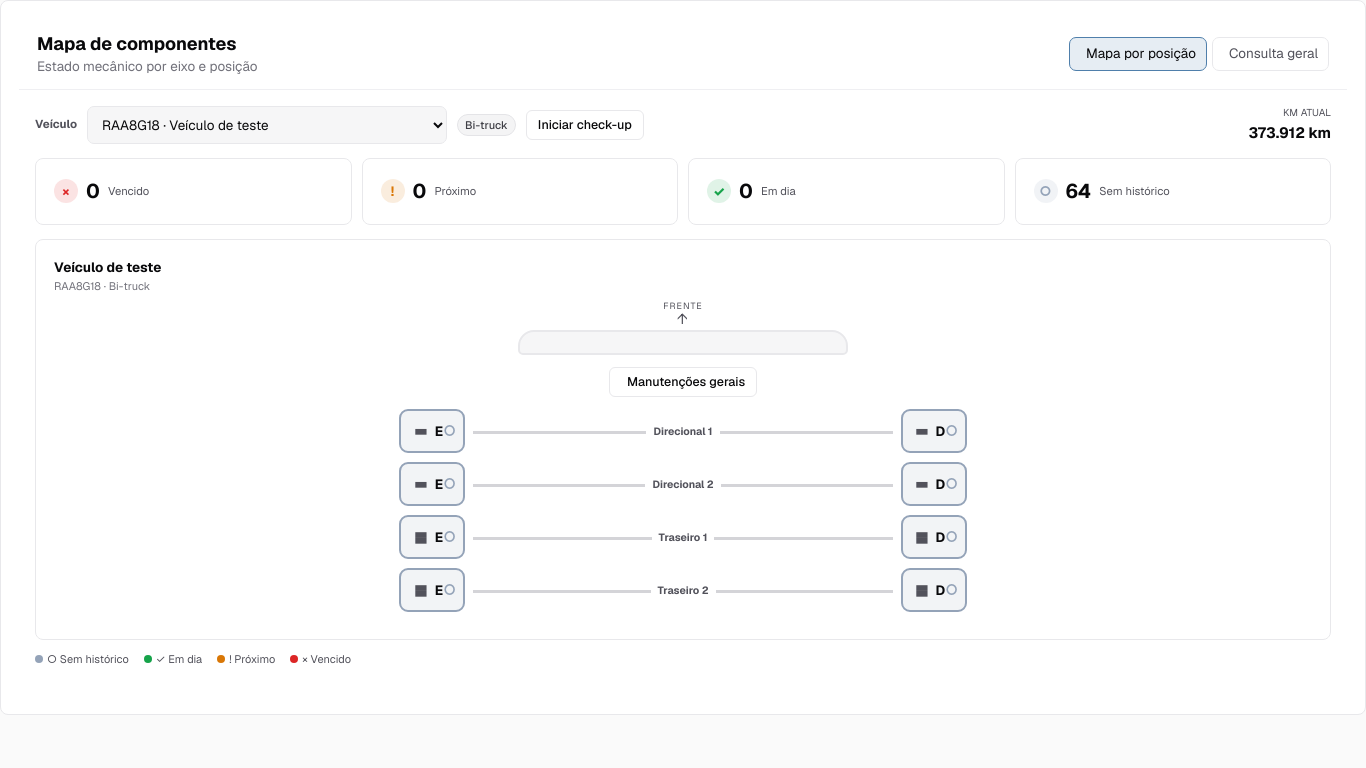
Scenario: abre a posição em modal e permite pular os detalhes opcionais
Click the button titled "Esquerdo · Sem histórico" in the row of "Direcional 1": (432, 432) left=399, top=410, right=465, bottom=454
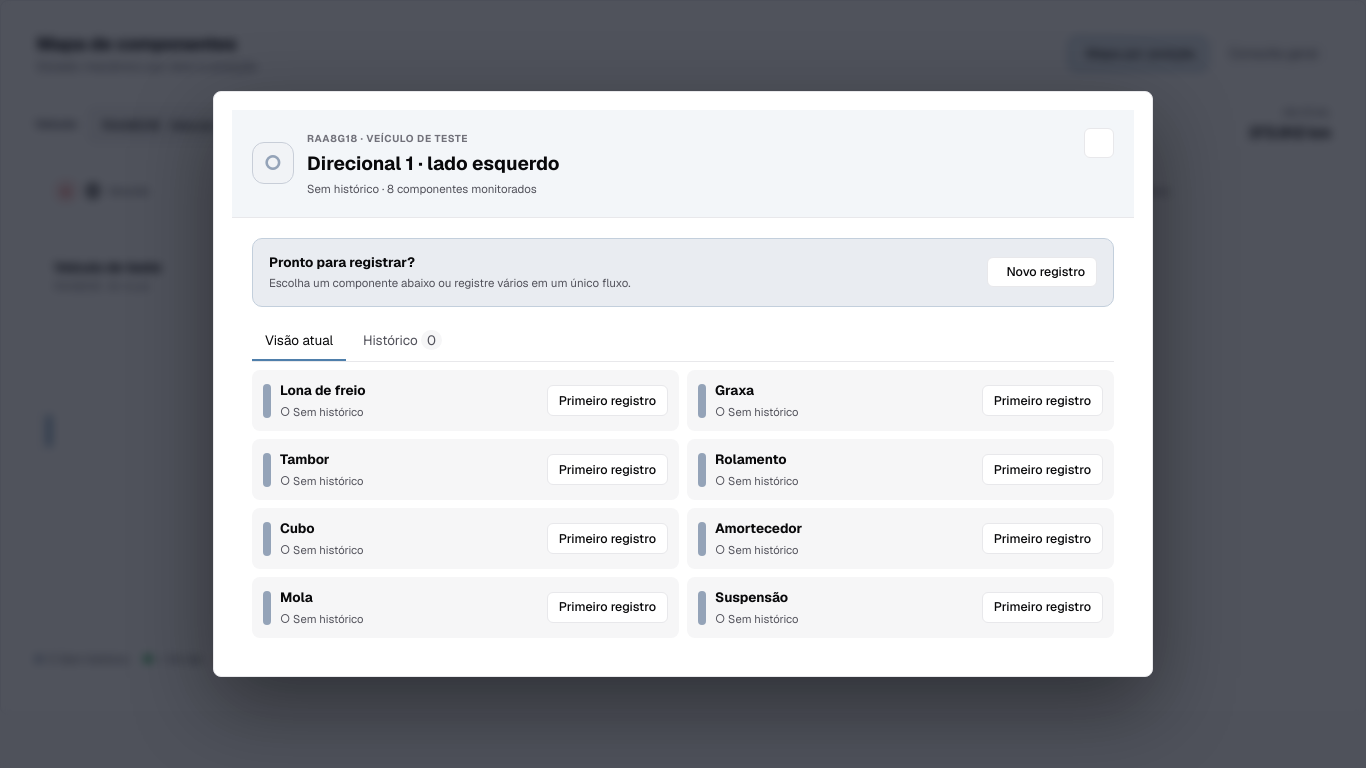
Result: the dialog "Direcional 1 · lado esquerdo" is shown at left=213, top=91, right=1153, bottom=677
Result: the text "Sem histórico · 8 componentes monitorados" is shown at left=307, top=181, right=537, bottom=196
Click the button "Novo registro": (1042, 272) left=987, top=257, right=1097, bottom=287
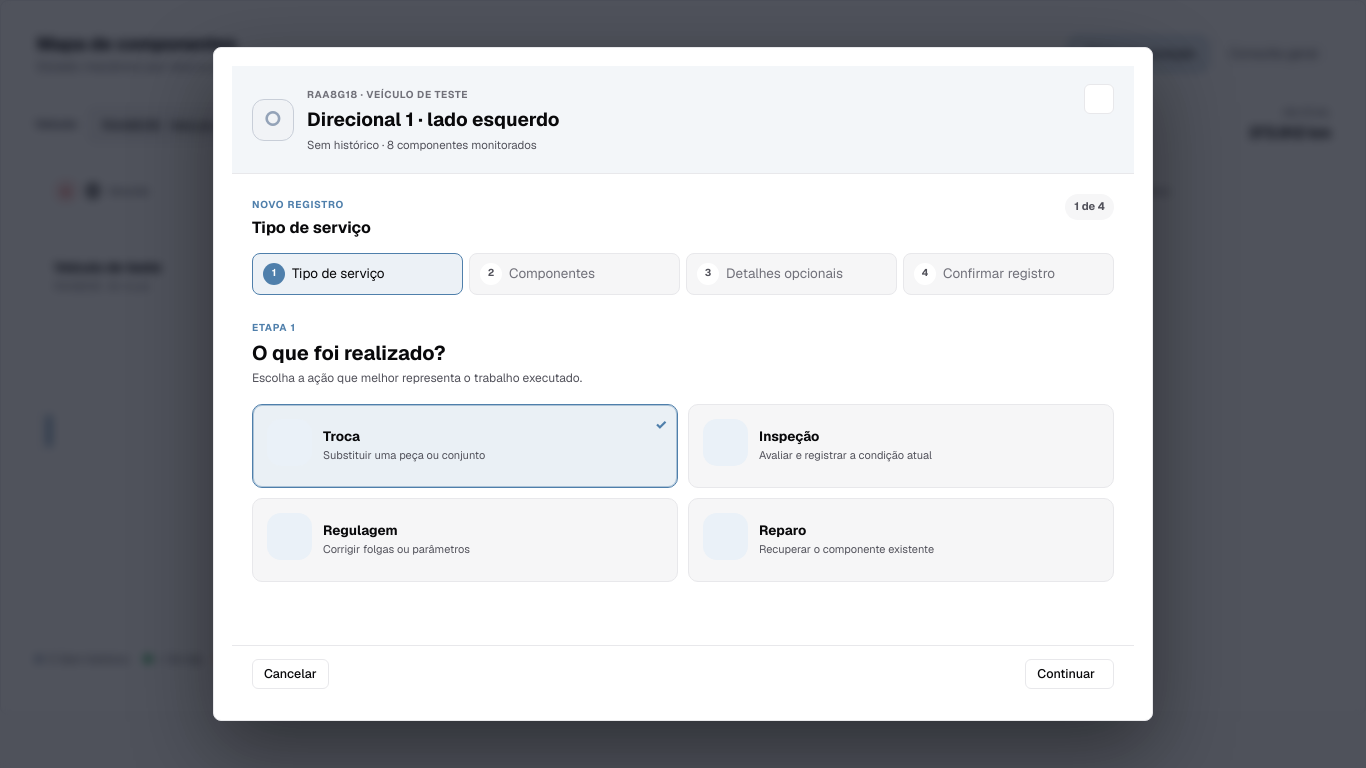
Result: the heading "O que foi realizado?" is shown at left=252, top=340, right=446, bottom=366
Click the button "Continuar": (1070, 674) left=1025, top=659, right=1114, bottom=689
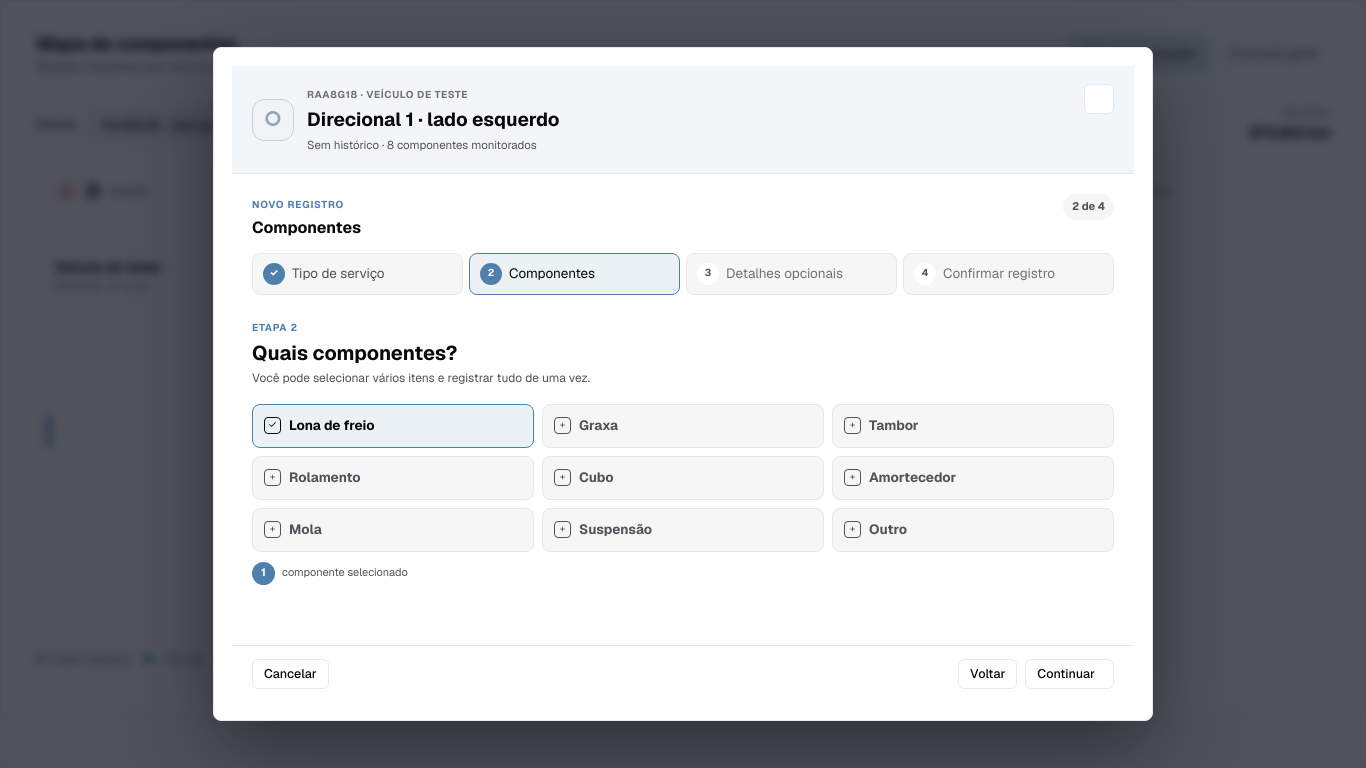
Result: the heading "Quais componentes?" is shown at left=252, top=340, right=457, bottom=366
Result: the element with class "mp-selection-feedback" reads "1 componente selecionado" at left=252, top=562, right=408, bottom=585
Click the button "Continuar": (1070, 674) left=1025, top=659, right=1114, bottom=689
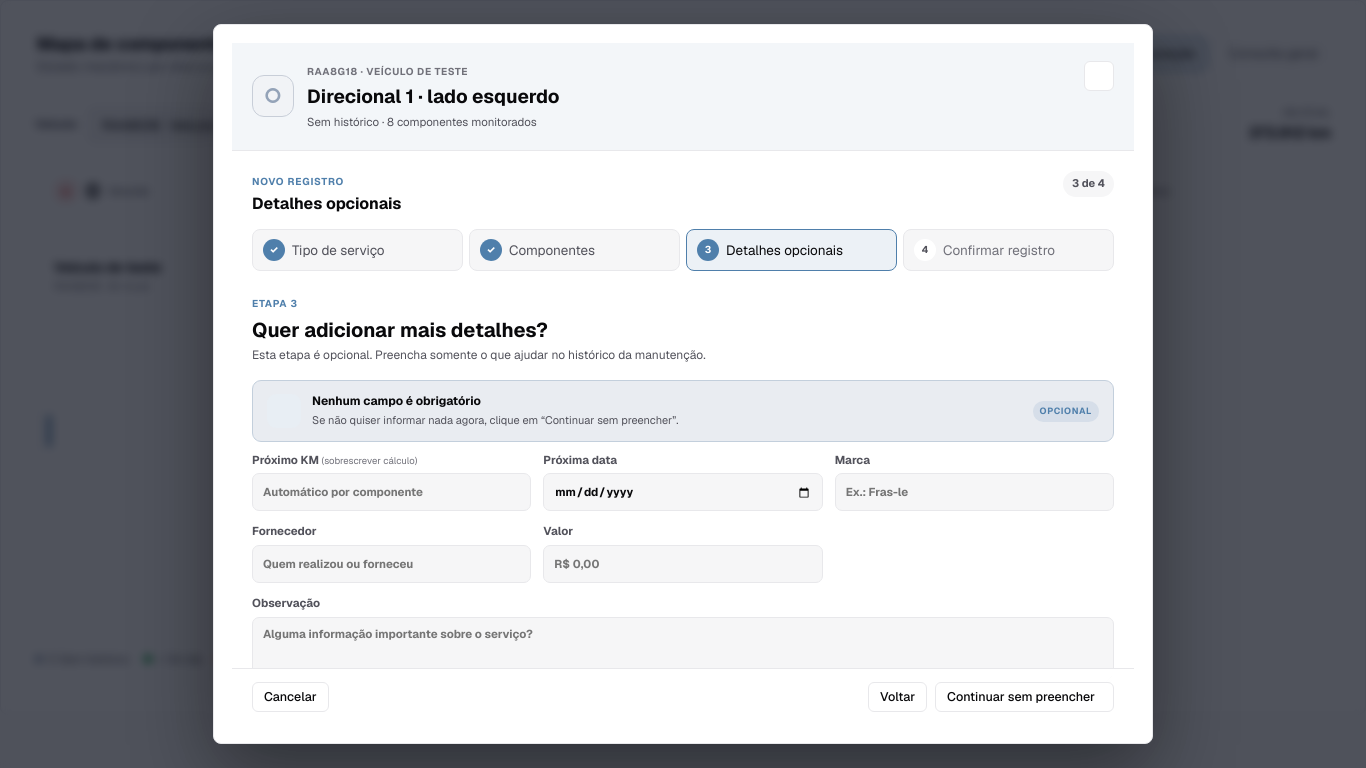
Result: the heading "Quer adicionar mais detalhes?" is shown at left=252, top=317, right=548, bottom=343
Result: the text "Nenhum campo é obrigatório" is shown at left=312, top=393, right=481, bottom=409
Result: the field labelled "Marca" is shown at left=835, top=473, right=1114, bottom=511
Click the button "Continuar sem preencher": (1025, 697) left=935, top=682, right=1114, bottom=712
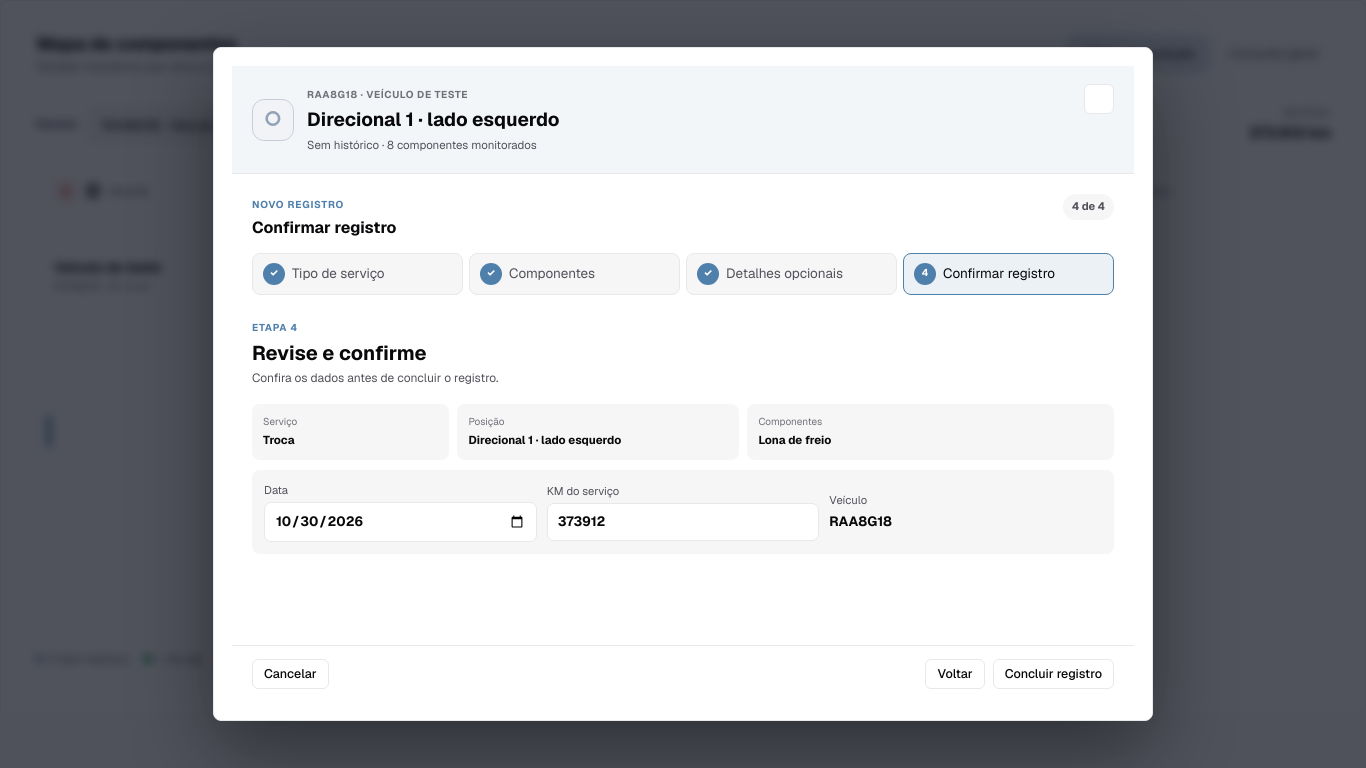
Result: the heading "Revise e confirme" is shown at left=252, top=340, right=427, bottom=366
Result: the text "Lona de freio" is shown at left=758, top=432, right=831, bottom=447
